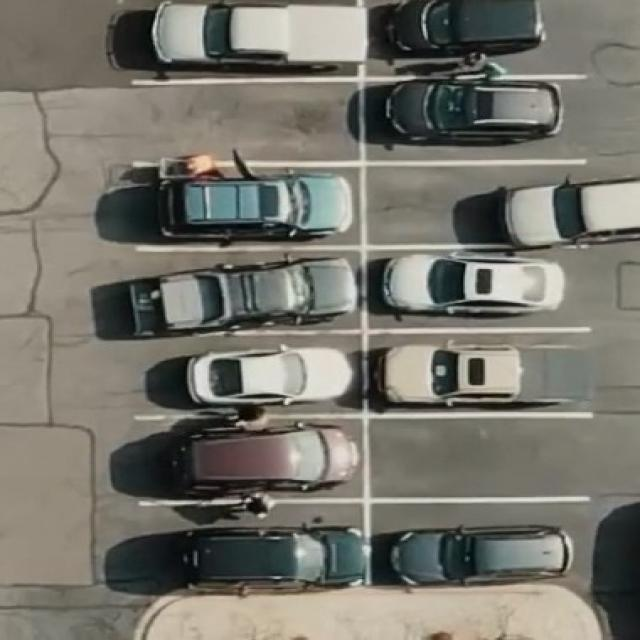space-empty: (127, 74, 360, 167), (364, 413, 596, 502)
space-occupied: (111, 498, 371, 595), (362, 157, 638, 248), (108, 242, 364, 339), (126, 412, 367, 503), (364, 326, 596, 416), (360, 71, 584, 161), (115, 336, 373, 414), (142, 157, 362, 245), (122, 1, 366, 80), (369, 497, 584, 586), (364, 242, 581, 330), (367, 0, 549, 68)
